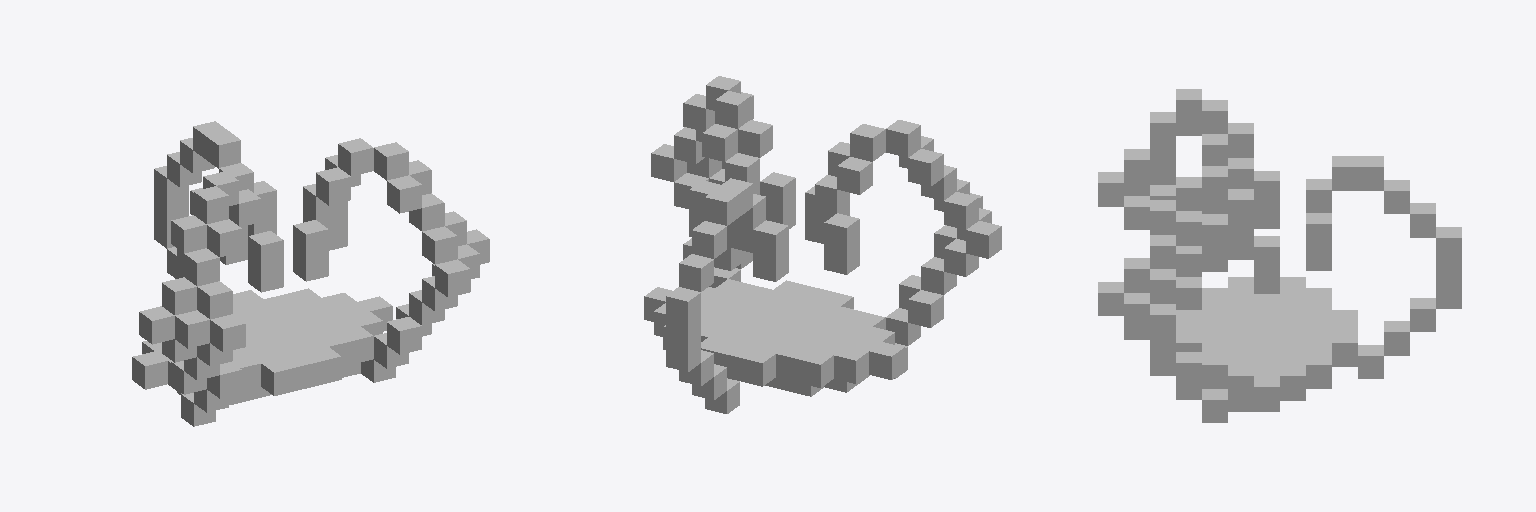
File: Summoner.obj
The picture shows the model from 3 angles: view 1: azimuth 30°, elevation 25°; view 2: azimuth 150°, elevation 25°; view 3: azimuth 270°, elevation 25°; orthographic projection.
Visible parts, largest first — view 1: pCube1; view 2: pCube1; view 3: pCube1.
Part boxes in pixels (x1,y1,x2,y2): pCube1: (132, 121, 489, 426); pCube1: (644, 76, 1001, 413); pCube1: (1098, 89, 1461, 422).
Size of the model in its own units: 3 by 2 by 2.8.